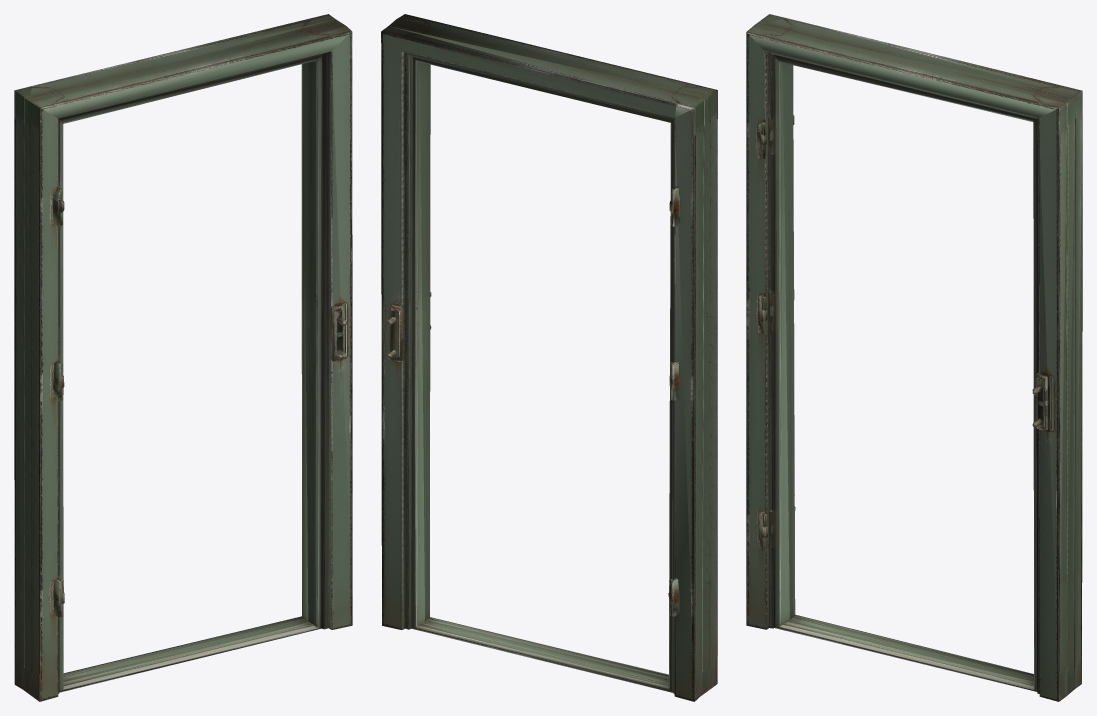
File: door4  jamb.fbx
3 views of the same model, side by side, from view 1: azimuth 30°, elevation 25°; view 2: azimuth 150°, elevation 25°; view 3: azimuth 330°, elevation 25° (orthographic).
Parts seen in each view (by area): view 1: mesh_node; view 2: mesh_node; view 3: mesh_node.
Boxes of the visible parts, <box> form: mesh_node: <box>14,14,352,701</box>; mesh_node: <box>381,14,717,701</box>; mesh_node: <box>746,14,1082,701</box>.
Bounding box in the file's own units: 55.47 × 100 × 12.6.
Materials: 1 (1 with a texture image).
